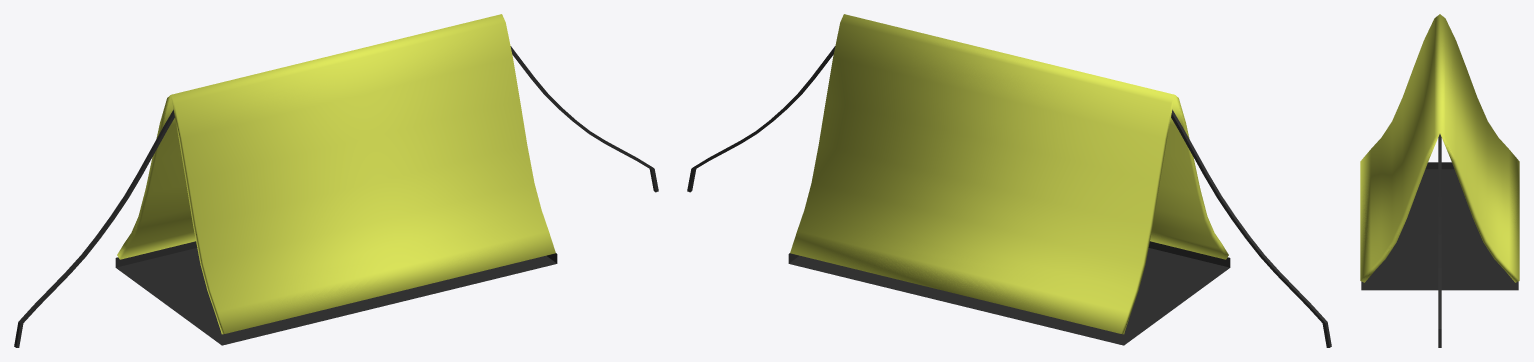
Rendered from Tent.fbx.
3 renders of one model, left to right at view 1: azimuth 30°, elevation 25°; view 2: azimuth 150°, elevation 25°; view 3: azimuth 270°, elevation 25°, orthographic. The views are drawn at different scales.
Parts seen in each view (by area): view 1: Cube, Cube.001; view 2: Cube, Cube.001; view 3: Cube, Cube.001.
Part boxes in pixels (bbox=[...]): Cube: bbox=[117, 14, 555, 334]; Cube.001: bbox=[14, 46, 658, 347]; Cube: bbox=[790, 14, 1228, 334]; Cube.001: bbox=[687, 46, 1331, 347]; Cube: bbox=[1360, 14, 1519, 282]; Cube.001: bbox=[1361, 134, 1518, 347].
Bounding box in the file's own units: 2529 × 809 × 735.
